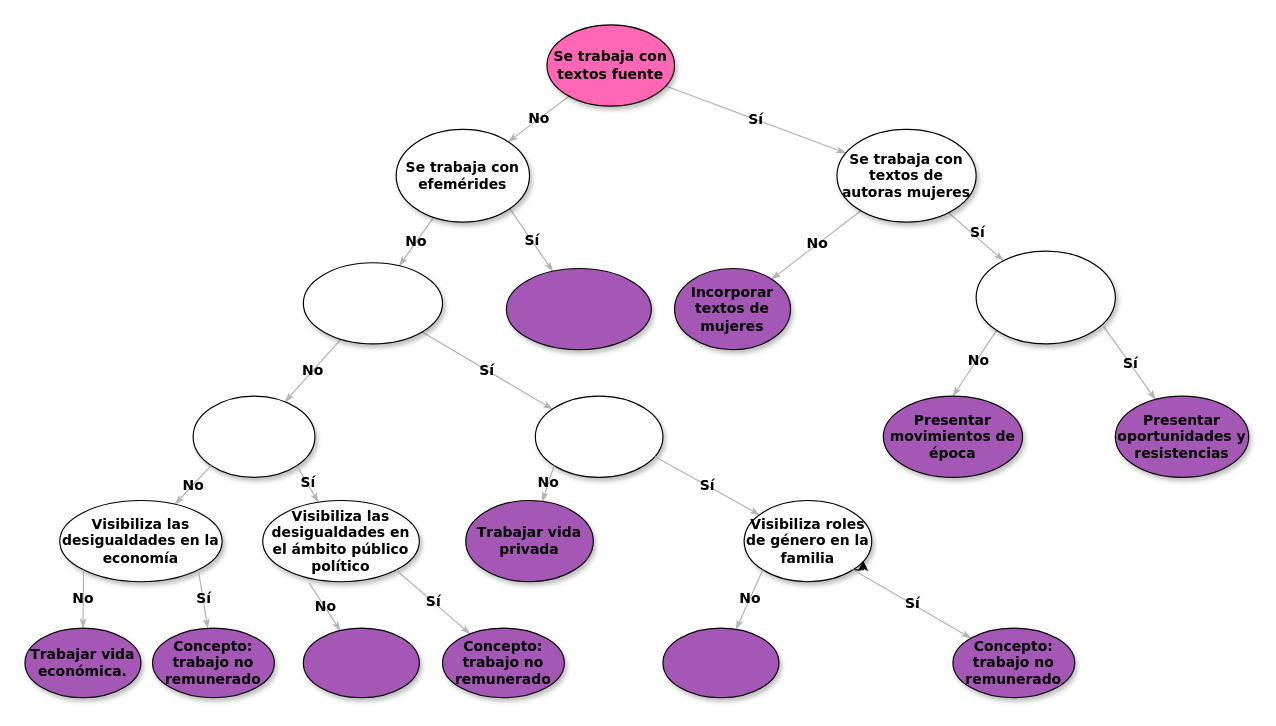
The diagram is 1276 pixels wide and 726 high, and some of its shapes have lost their labels. The shapes that lost their labels are listed below. From the top down, each one's centre as x and y in pixels, then its label:
the point at 373,304: Se trabaja con el ámbito privado
the point at 579,310: Visibilizar las mujeres en la historia
the point at 1046,298: S e pone contexto de género
the point at 254,437: Se trabaja el ámbito público
the point at 600,437: Se trabaja la noción de familia
the point at 362,664: Trabajar vida política
the point at 721,664: Trabajar roles de género
